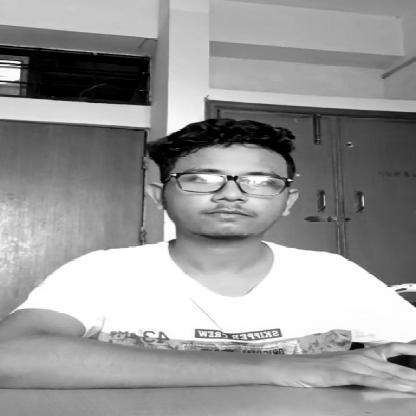Normal: (127, 122, 328, 253)
